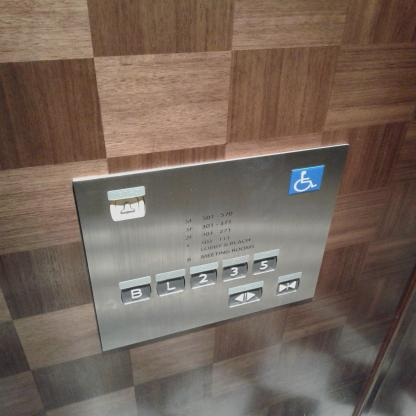2: (188, 260, 219, 290)
3: (220, 254, 249, 283)
5: (251, 248, 280, 276)
B: (117, 275, 153, 306)
CH: (286, 164, 326, 196)
L: (154, 268, 187, 297)
alarm: (105, 185, 149, 223)
close: (274, 270, 302, 297)
open: (226, 280, 264, 309)
